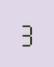three: (19, 19, 32, 47)
